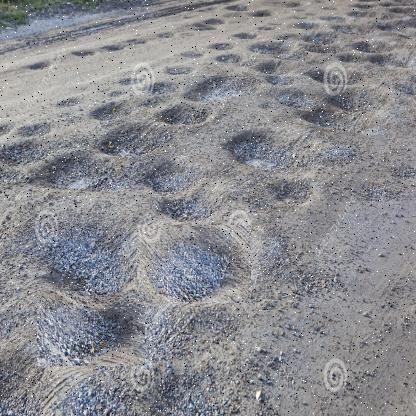pothole: (137, 225, 252, 304), (37, 292, 146, 368), (220, 124, 310, 184), (27, 144, 116, 202), (96, 118, 166, 163), (153, 96, 219, 138), (264, 174, 318, 216)
